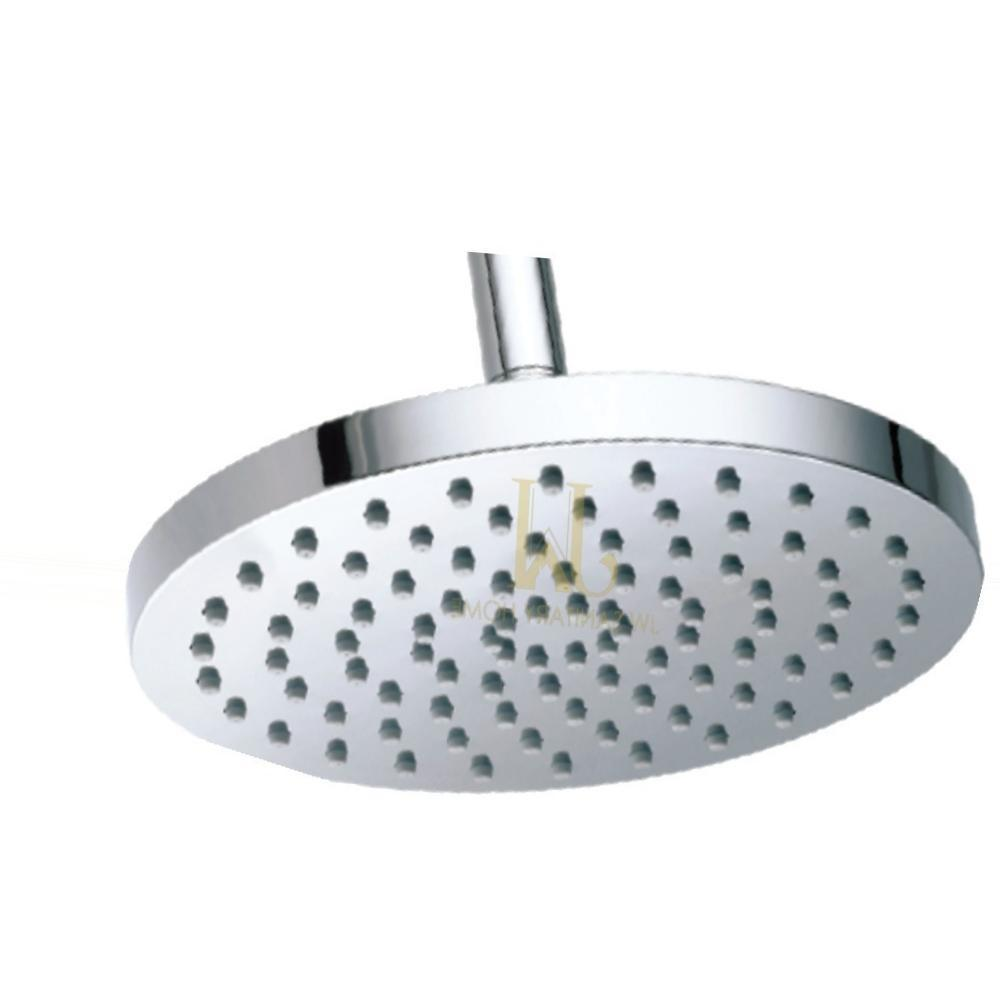Ducha: (125, 225, 988, 823)
